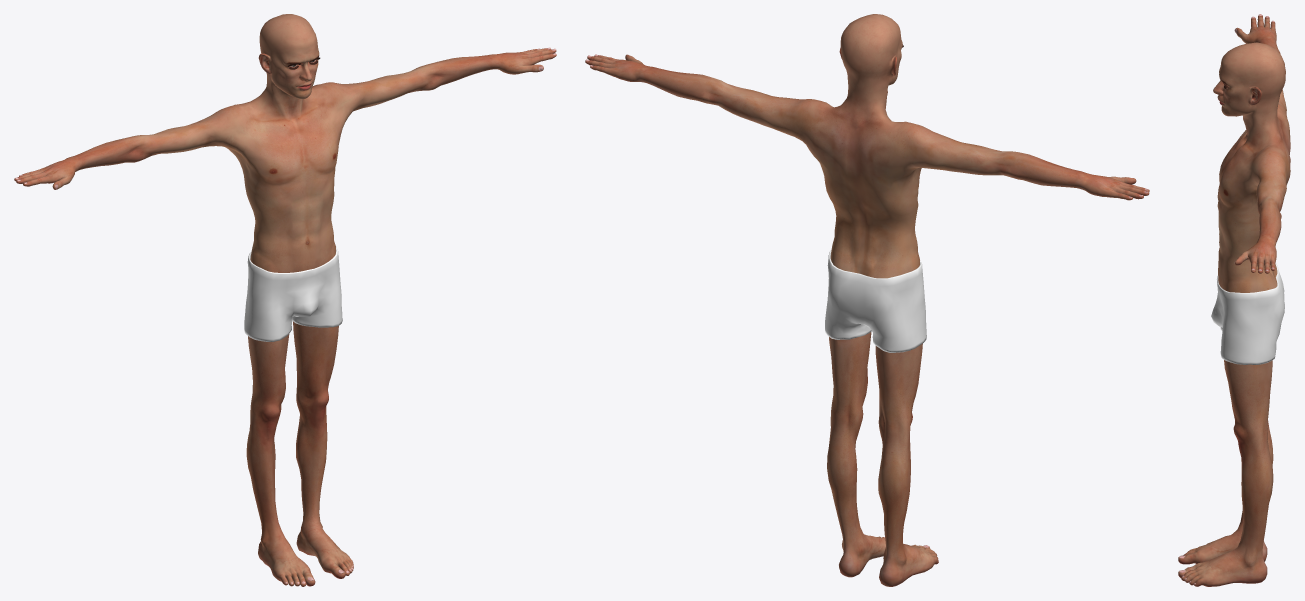
3 renders of one model, left to right at view 1: azimuth 30°, elevation 25°; view 2: azimuth 150°, elevation 25°; view 3: azimuth 270°, elevation 25°, orthographic. The views are drawn at different scales.
Parts seen in each view (by area): view 1: CC_Base_Body, Boxers; view 2: CC_Base_Body, Boxers; view 3: CC_Base_Body, Boxers.
Boxes of the visible parts, left/top/right/bottom form: CC_Base_Body: left=14, top=14, right=556, bottom=586; Boxers: left=244, top=246, right=342, bottom=341; CC_Base_Body: left=585, top=14, right=1149, bottom=586; Boxers: left=825, top=250, right=926, bottom=352; CC_Base_Body: left=1178, top=14, right=1290, bottom=586; Boxers: left=1211, top=263, right=1284, bottom=364.
Bounding box in the file's own units: 1.84 × 1.76 × 0.34.
14 materials, 13 textured.
